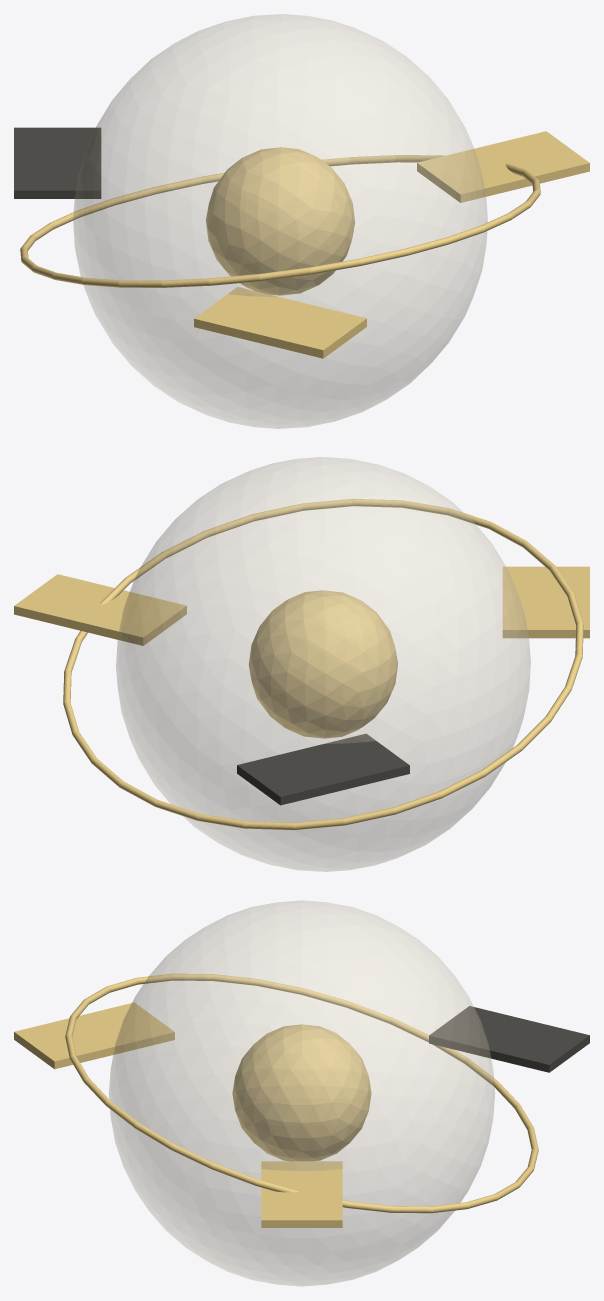
File: scholarship-core-draco.glb
The picture shows the model from 3 angles, top to bottom: view 1: azimuth 30°, elevation 25°; view 2: azimuth 150°, elevation 25°; view 3: azimuth 270°, elevation 25°; orthographic projection. The views are drawn at different scales.
Visible parts, largest first — view 1: smoked_glass_outer_core, gold_opportunity_core, thin_gold_orbit_ring, floating_match_card_3, floating_match_card_1, floating_match_card_2; view 2: smoked_glass_outer_core, gold_opportunity_core, thin_gold_orbit_ring, floating_match_card_2, floating_match_card_1, floating_match_card_3; view 3: smoked_glass_outer_core, gold_opportunity_core, thin_gold_orbit_ring, floating_match_card_2, floating_match_card_3, floating_match_card_1.
Part boxes in pixels (x1,y1,x2,y2): smoked_glass_outer_core: [73, 14, 487, 428]; gold_opportunity_core: [206, 147, 355, 295]; thin_gold_orbit_ring: [20, 155, 540, 287]; floating_match_card_3: [194, 287, 366, 358]; floating_match_card_1: [417, 131, 589, 202]; floating_match_card_2: [14, 127, 101, 198]; smoked_glass_outer_core: [116, 457, 530, 871]; gold_opportunity_core: [248, 590, 397, 738]; thin_gold_orbit_ring: [63, 498, 583, 830]; floating_match_card_2: [237, 734, 409, 805]; floating_match_card_1: [14, 574, 186, 645]; floating_match_card_3: [502, 566, 589, 638]; smoked_glass_outer_core: [109, 900, 494, 1286]; gold_opportunity_core: [232, 1024, 371, 1161]; thin_gold_orbit_ring: [65, 973, 538, 1213]; floating_match_card_2: [429, 1006, 589, 1072]; floating_match_card_3: [14, 1002, 174, 1069]; floating_match_card_1: [261, 1161, 342, 1227].
Bounding box in the file's own units: 2.87 × 2 × 2.98.
